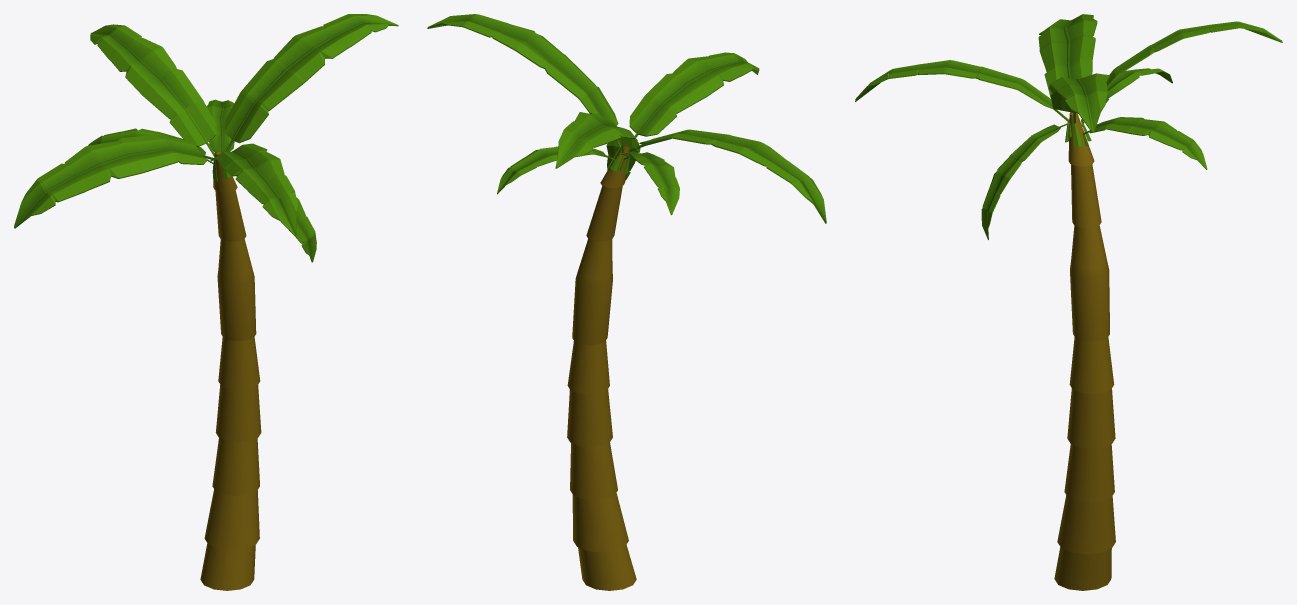
File: Palmeira.fbx
The picture shows the model from 3 angles, left to right: view 1: azimuth 30°, elevation 25°; view 2: azimuth 150°, elevation 25°; view 3: azimuth 270°, elevation 25°; orthographic projection. The views are drawn at different scales.
Visible parts, largest first — view 1: Palmeira; view 2: Palmeira; view 3: Palmeira.
Boxes of the visible parts, left/top/right/bottom form: Palmeira: left=14, top=14, right=398, bottom=590; Palmeira: left=427, top=14, right=826, bottom=590; Palmeira: left=855, top=14, right=1282, bottom=590.
Size of the model in its own units: 1335 by 1721 by 1198.
